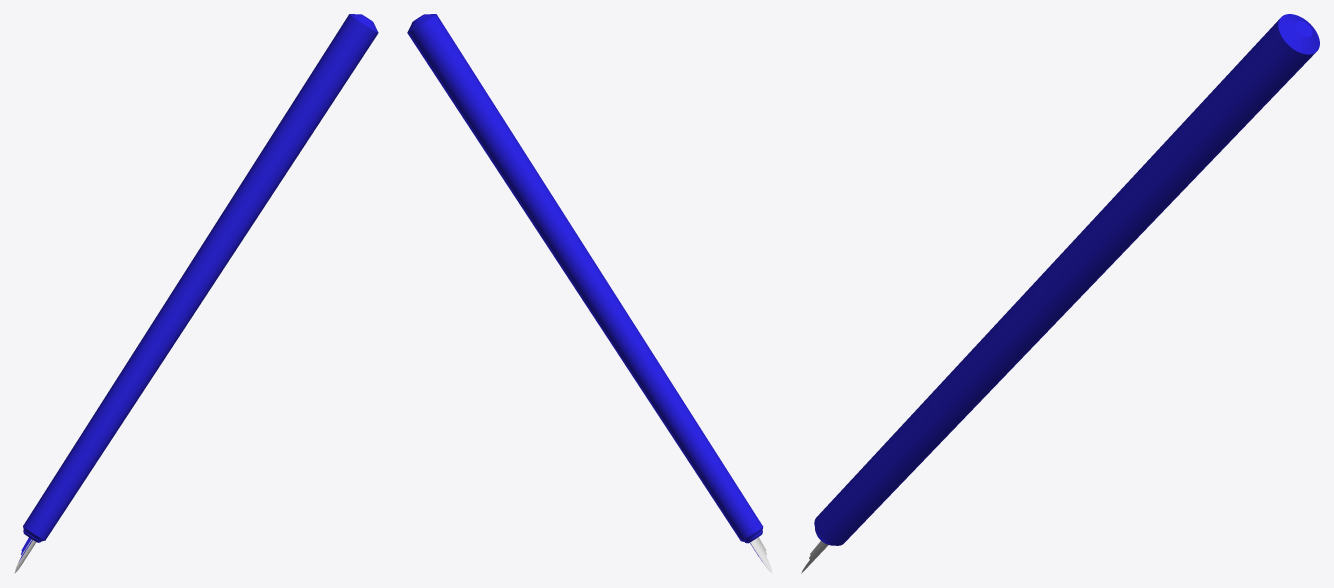
Rendered from penF.gltf.
The picture shows the model from 3 angles, left to right: view 1: azimuth 30°, elevation 25°; view 2: azimuth 150°, elevation 25°; view 3: azimuth 330°, elevation 25°; orthographic projection. The views are drawn at different scales.
Visible parts, largest first — view 1: Цилиндр; view 2: Цилиндр; view 3: Цилиндр.
Boxes of the visible parts, <box> form: Цилиндр: <box>14,14,378,573</box>; Цилиндр: <box>407,14,772,573</box>; Цилиндр: <box>801,14,1319,573</box>.
Bounding box in the file's own units: 2.03 × 2.55 × 0.1696.
